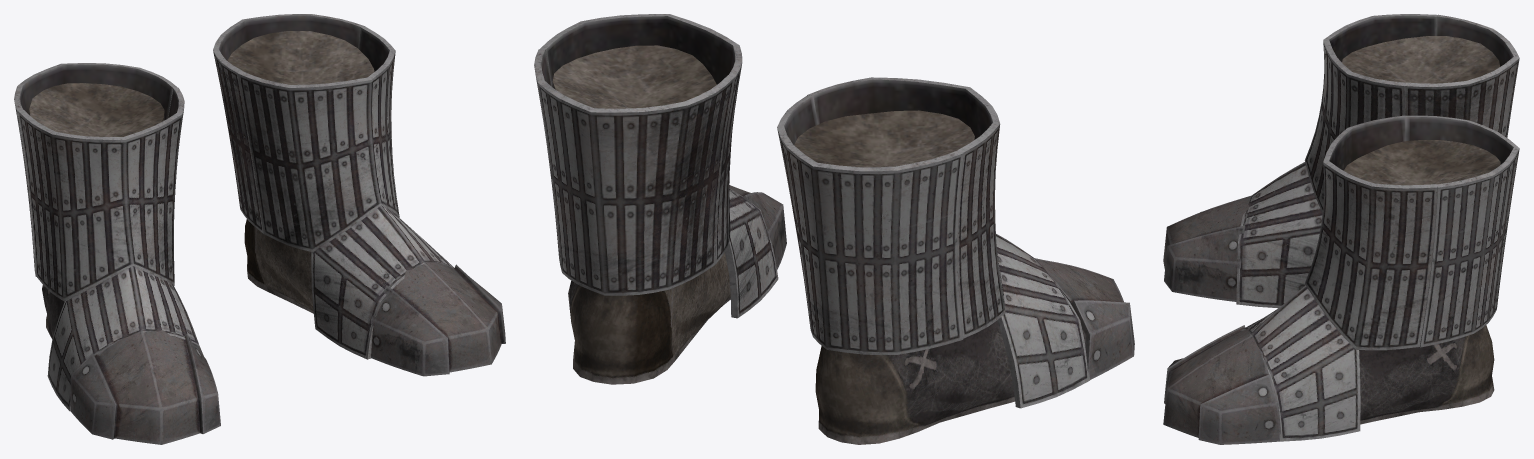
The model's file is sk_dwarf_iron_boots_elite_a3.fbx.
3 renders of one model, left to right at view 1: azimuth 30°, elevation 25°; view 2: azimuth 150°, elevation 25°; view 3: azimuth 270°, elevation 25°, orthographic. The views are drawn at different scales.
Visible parts, largest first — view 1: sk_dwarf_iron_boots_elite_a3; view 2: sk_dwarf_iron_boots_elite_a3; view 3: sk_dwarf_iron_boots_elite_a3.
Part boxes in pixels (<box>): sk_dwarf_iron_boots_elite_a3: <box>14,14,505,444</box>; sk_dwarf_iron_boots_elite_a3: <box>534,14,1134,444</box>; sk_dwarf_iron_boots_elite_a3: <box>1163,14,1519,444</box>.
Bounding box in the file's own units: 0.5675 × 0.4163 × 0.3141.
1 material, 1 textured.
